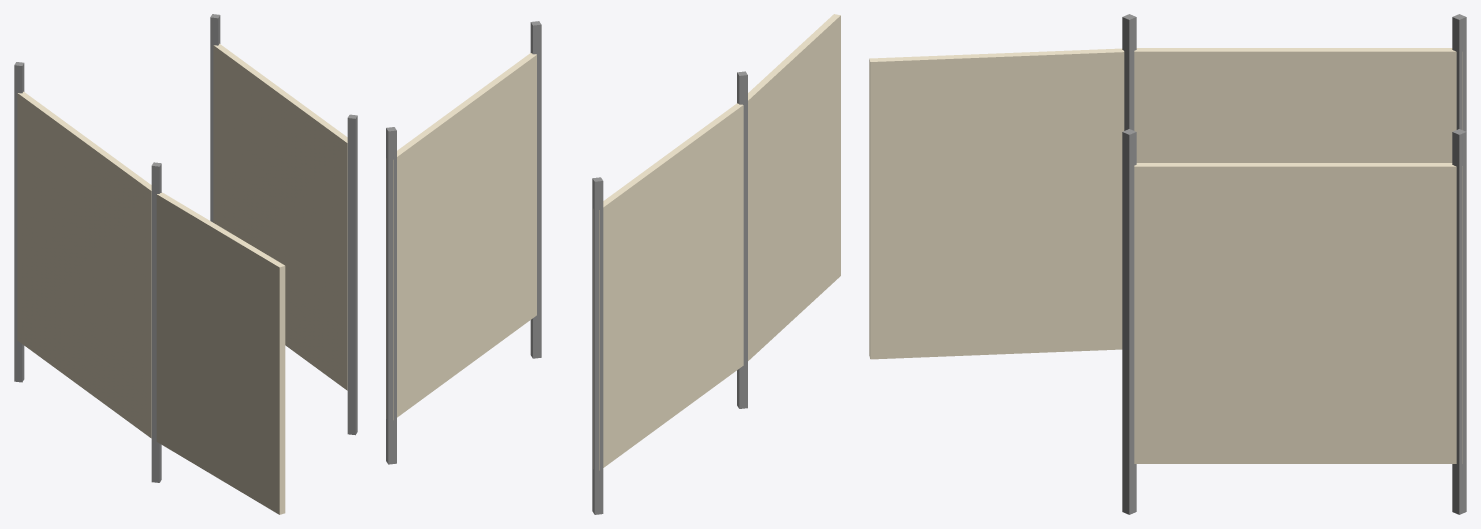
The model's file is Bathroom_Stall_Open.fbx.
3 views of the same model, side by side, from view 1: azimuth 30°, elevation 25°; view 2: azimuth 150°, elevation 25°; view 3: azimuth 270°, elevation 25° (orthographic). The views are drawn at different scales.
Visible parts, largest first — view 1: Bathroom_Stall_Open; view 2: Bathroom_Stall_Open; view 3: Bathroom_Stall_Open.
Part boxes in pixels (bbox=[...]): Bathroom_Stall_Open: bbox=[14, 14, 357, 514]; Bathroom_Stall_Open: bbox=[386, 14, 840, 514]; Bathroom_Stall_Open: bbox=[869, 14, 1466, 514].
Bounding box in the file's own units: 121 × 177 × 252.
